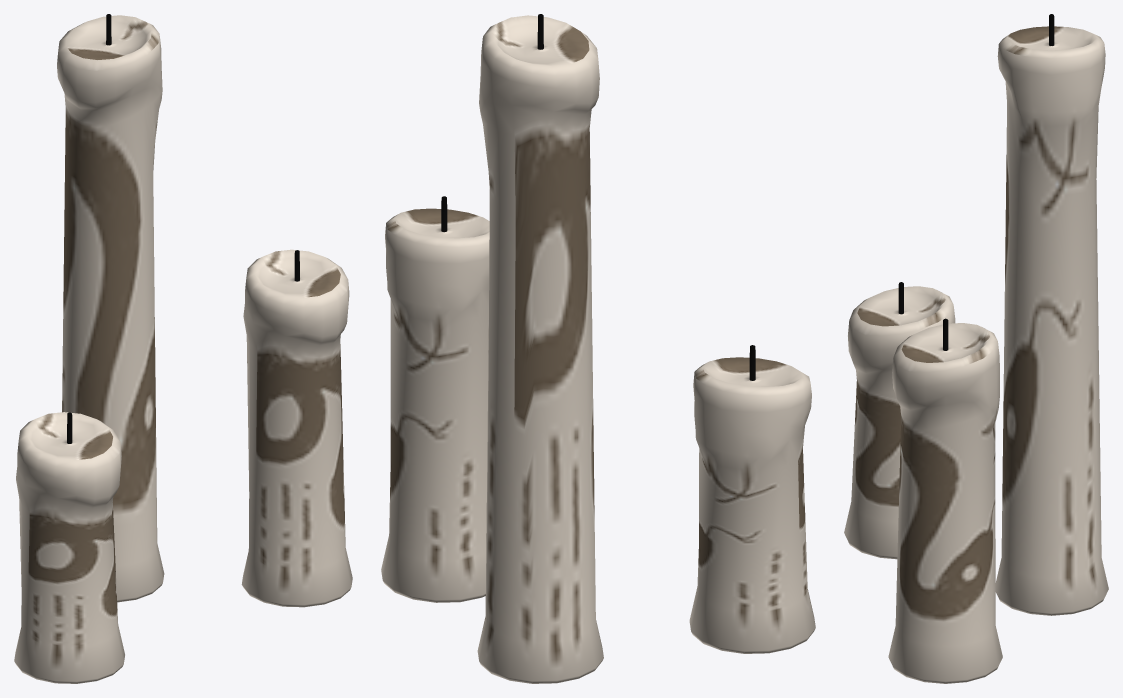
File: candle x3.fbx
3 views of the same model, side by side, from view 1: azimuth 30°, elevation 25°; view 2: azimuth 150°, elevation 25°; view 3: azimuth 270°, elevation 25° (orthographic). The views are drawn at different scales.
Visible parts, largest first — view 1: candle x3; view 2: candle x3; view 3: candle x3.
Boxes of the visible parts, x1=… form: candle x3: x1=14, y1=14, x2=352, y2=683; candle x3: x1=381, y1=14, x2=815, y2=683; candle x3: x1=844, y1=14, x2=1108, y2=683.
Bounding box in the file's own units: 0.6353 × 0.9926 × 0.4117.
